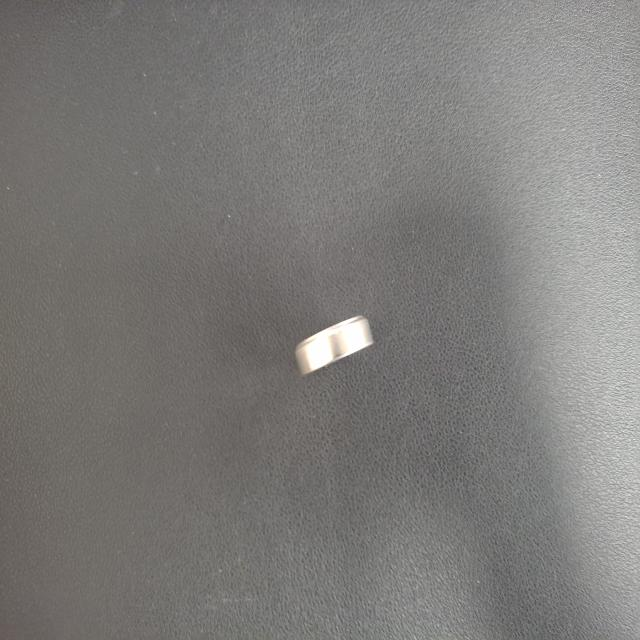COIN: (234, 350, 284, 462)
